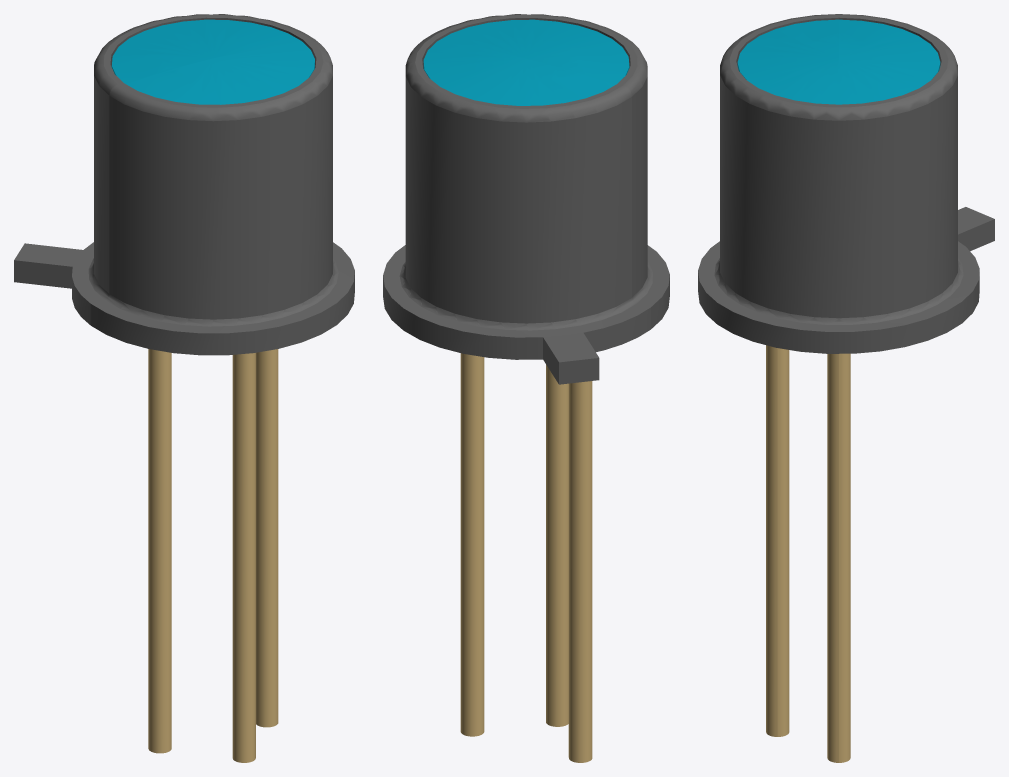
File: kc-to-18-3_window.glb
3 views of the same model, side by side, from view 1: azimuth 30°, elevation 25°; view 2: azimuth 150°, elevation 25°; view 3: azimuth 270°, elevation 25° (orthographic).
Visible parts, largest first — view 1: 0.16666666666666666_0.16666666666666666_0.16666666666666666_, 0.75_0.5_0.25_0.9, 0_0.3333333333333333_0.5_0; view 2: 0.16666666666666666_0.16666666666666666_0.16666666666666666_, 0.75_0.5_0.25_0.9, 0_0.3333333333333333_0.5_0; view 3: 0.16666666666666666_0.16666666666666666_0.16666666666666666_, 0.75_0.5_0.25_0.9, 0_0.3333333333333333_0.5_0.
Boxes of the visible parts, x1,y1,x2,y2 form: 0.16666666666666666_0.16666666666666666_0.16666666666666666_: (14, 14, 354, 355); 0.75_0.5_0.25_0.9: (148, 349, 278, 762); 0_0.3333333333333333_0.5_0: (111, 19, 314, 104); 0.16666666666666666_0.16666666666666666_0.16666666666666666_: (383, 14, 669, 384); 0.75_0.5_0.25_0.9: (460, 353, 592, 762); 0_0.3333333333333333_0.5_0: (423, 19, 629, 105); 0.16666666666666666_0.16666666666666666_0.16666666666666666_: (698, 14, 994, 353); 0.75_0.5_0.25_0.9: (766, 345, 850, 762); 0_0.3333333333333333_0.5_0: (737, 19, 940, 104).
Bounding box in the file's own units: 0.6138 × 1.54 × 0.6145.
